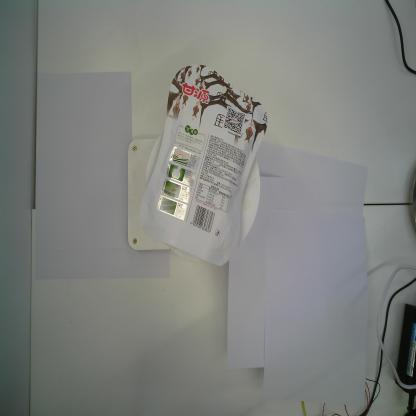Dried Fruit: (137, 63, 271, 266)
